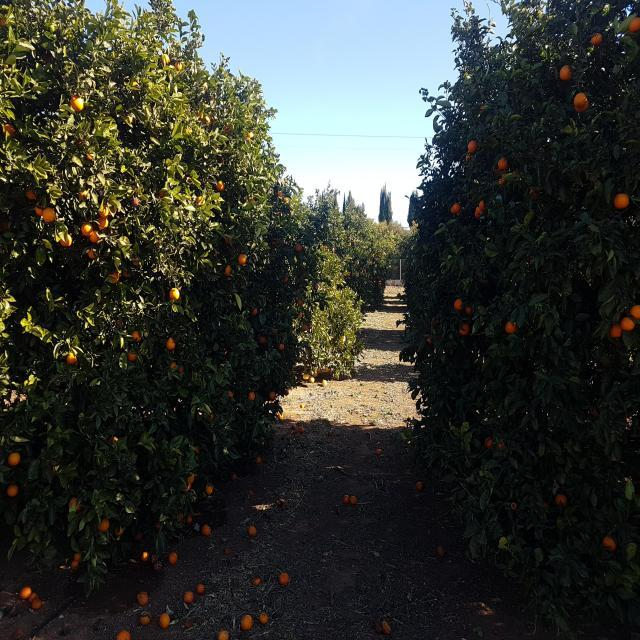Jeruk Sudah Matang: (573, 94, 591, 110), (612, 195, 630, 210), (627, 16, 640, 34), (40, 208, 56, 222), (622, 316, 636, 332), (560, 64, 573, 81), (240, 614, 253, 631), (590, 32, 605, 46), (6, 484, 20, 498), (604, 537, 618, 551), (58, 234, 73, 247), (610, 326, 622, 342), (86, 227, 99, 241), (475, 201, 487, 216), (504, 323, 517, 336), (21, 587, 34, 600), (31, 597, 43, 611), (497, 159, 509, 172), (556, 493, 569, 505), (630, 302, 640, 317), (10, 453, 22, 465), (70, 94, 82, 106), (382, 622, 394, 634), (453, 298, 465, 310), (162, 614, 172, 628), (168, 338, 178, 352), (112, 270, 126, 280), (27, 190, 38, 202), (71, 555, 82, 567), (170, 285, 180, 298), (100, 204, 110, 217), (451, 203, 462, 214), (202, 523, 213, 534), (68, 355, 79, 366), (80, 223, 91, 234), (3, 125, 14, 136), (468, 142, 478, 154), (140, 594, 150, 606), (346, 494, 358, 504), (184, 592, 194, 604), (70, 497, 80, 509), (260, 612, 270, 624), (478, 80, 488, 92), (188, 473, 198, 484), (99, 519, 109, 530), (171, 362, 181, 373), (484, 438, 495, 448), (494, 440, 505, 450), (268, 393, 278, 404), (176, 60, 186, 71), (496, 178, 507, 188), (107, 273, 119, 282), (280, 575, 290, 585), (238, 254, 248, 264), (248, 525, 258, 535), (110, 434, 120, 444), (220, 630, 230, 640), (460, 326, 470, 336), (86, 248, 96, 258), (438, 546, 448, 556), (128, 112, 138, 122), (187, 514, 197, 524), (176, 366, 186, 376), (121, 631, 132, 640), (180, 514, 192, 522), (171, 554, 180, 564), (252, 576, 261, 586), (130, 353, 140, 362), (162, 54, 171, 64), (251, 306, 261, 315), (218, 182, 227, 192), (278, 192, 287, 202), (79, 190, 88, 200), (87, 151, 96, 161), (141, 616, 151, 624), (198, 584, 206, 594), (258, 336, 266, 346), (206, 484, 215, 492), (134, 332, 143, 340), (227, 391, 236, 399), (416, 482, 424, 490), (256, 457, 264, 465), (224, 266, 232, 274), (294, 242, 302, 250), (249, 393, 256, 401), (144, 552, 151, 560), (279, 344, 286, 352), (118, 527, 125, 535), (278, 412, 284, 420)
